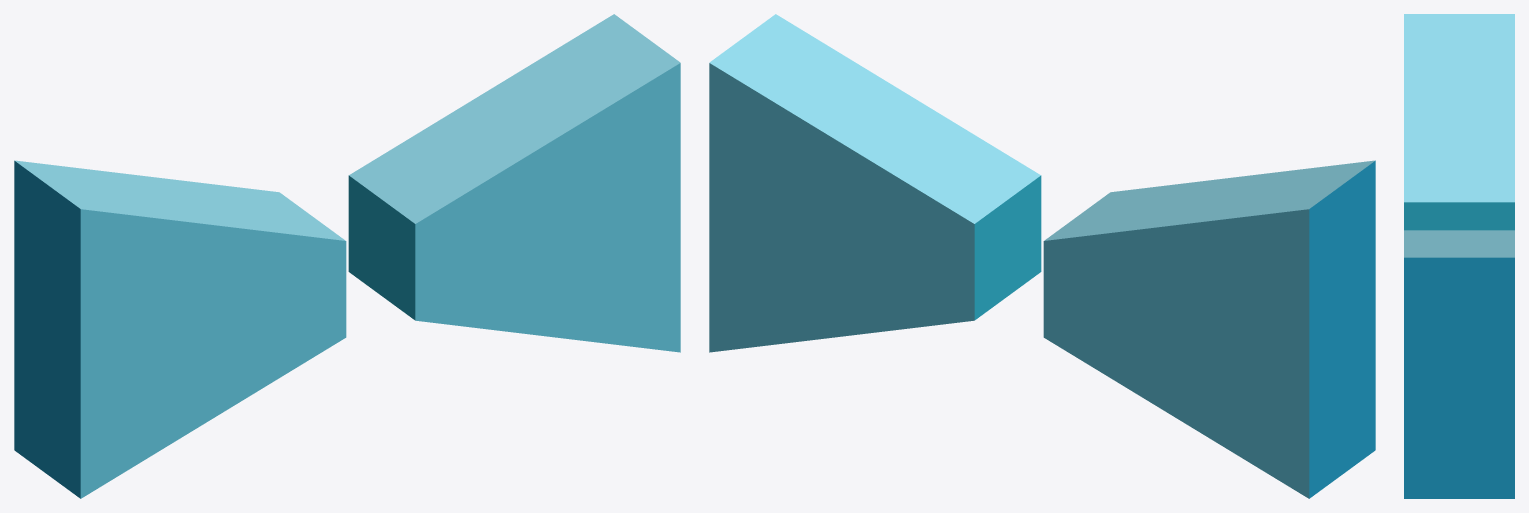
Rendered from D_FBX_00_Start_Wall.fbx.
3 views of the same model, side by side, from view 1: azimuth 30°, elevation 25°; view 2: azimuth 150°, elevation 25°; view 3: azimuth 270°, elevation 25° (orthographic). The views are drawn at different scales.
Parts seen in each view (by area): view 1: D_FBX_00_Start_Wall; view 2: D_FBX_00_Start_Wall; view 3: D_FBX_00_Start_Wall.
Part boxes in pixels (x1=…): D_FBX_00_Start_Wall: x1=14, y1=14, x2=680, y2=498; D_FBX_00_Start_Wall: x1=709, y1=14, x2=1375, y2=498; D_FBX_00_Start_Wall: x1=1404, y1=14, x2=1514, y2=498.
Bounding box in the file's own units: 1300 × 600 × 250.
